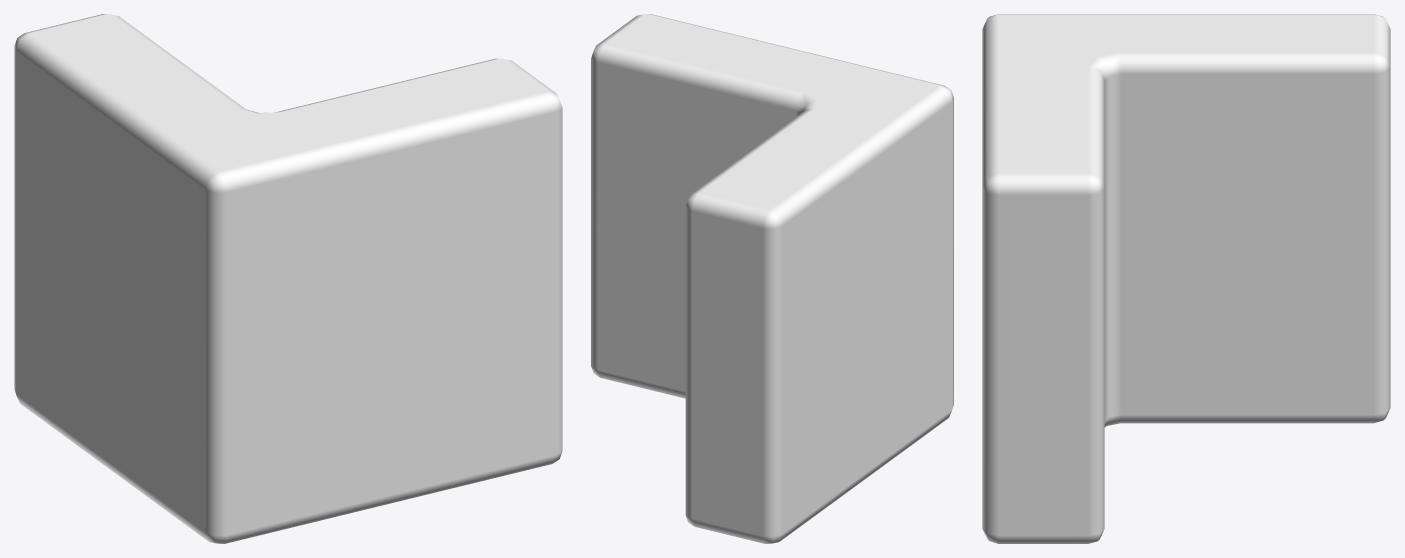
Rendered from wall_corner.fbx.
The picture shows the model from 3 angles, left to right: view 1: azimuth 30°, elevation 25°; view 2: azimuth 150°, elevation 25°; view 3: azimuth 270°, elevation 25°; orthographic projection. The views are drawn at different scales.
Visible parts, largest first — view 1: wall_corner; view 2: wall_corner; view 3: wall_corner.
Part boxes in pixels (left/top/right/bottom): wall_corner: left=14, top=14, right=562, bottom=543; wall_corner: left=591, top=14, right=953, bottom=543; wall_corner: left=982, top=14, right=1390, bottom=543.
Bounding box in the file's own units: 100 × 100 × 100.
